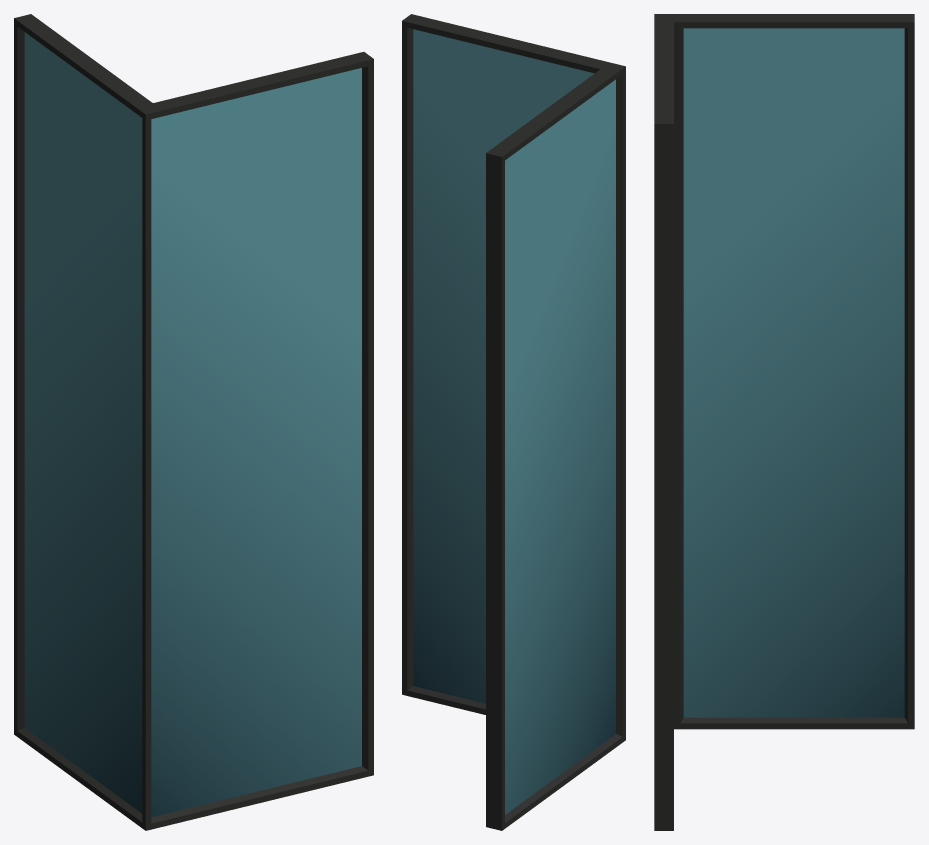
Rendered from giantWindowCorner.fbx.
3 views of the same model, side by side, from view 1: azimuth 30°, elevation 25°; view 2: azimuth 150°, elevation 25°; view 3: azimuth 270°, elevation 25° (orthographic). The views are drawn at different scales.
Parts seen in each view (by area): view 1: giantWindowCorner; view 2: giantWindowCorner; view 3: giantWindowCorner.
Part boxes in pixels (x1=…): giantWindowCorner: x1=14, y1=14, x2=373, y2=830; giantWindowCorner: x1=402, y1=14, x2=625, y2=830; giantWindowCorner: x1=654, y1=14, x2=914, y2=830.
Bounding box in the file's own units: 400 × 1200 × 400.
1 material, 1 textured.
